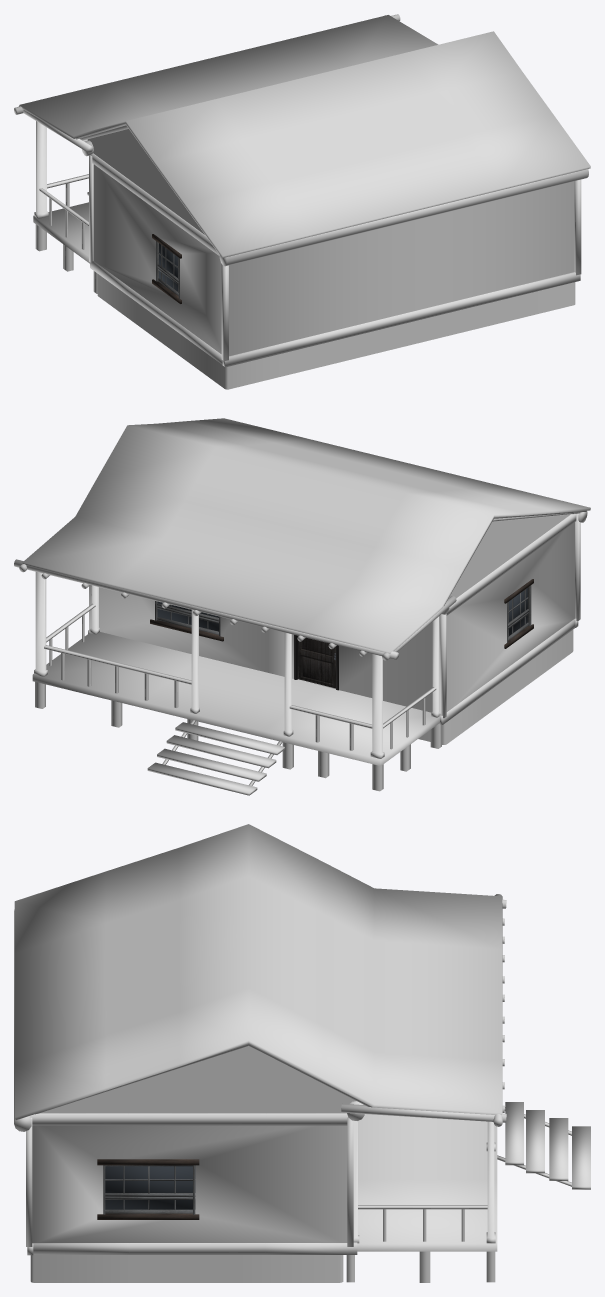
The model's file is FPH_Loghouse.fbx.
The picture shows the model from 3 angles, top to bottom: view 1: azimuth 30°, elevation 25°; view 2: azimuth 150°, elevation 25°; view 3: azimuth 270°, elevation 25°; orthographic projection. The views are drawn at different scales.
Visible parts, largest first — view 1: FPH_LogHouse, FPH_LogHouse_Window; view 2: FPH_LogHouse, FPH_LogHouse_Window, FPH_LogHouse_Door; view 3: FPH_LogHouse, FPH_LogHouse_Window.
Part boxes in pixels (left/top/right/bottom): FPH_LogHouse: left=14, top=14, right=590, bottom=389; FPH_LogHouse_Window: left=152, top=234, right=181, bottom=303; FPH_LogHouse: left=14, top=418, right=590, bottom=795; FPH_LogHouse_Window: left=150, top=579, right=533, bottom=648; FPH_LogHouse_Door: left=298, top=637, right=335, bottom=688; FPH_LogHouse: left=14, top=824, right=590, bottom=1282; FPH_LogHouse_Window: left=97, top=1159, right=199, bottom=1219.
Size of the model in its own units: 55.09 by 28.38 by 59.71.
